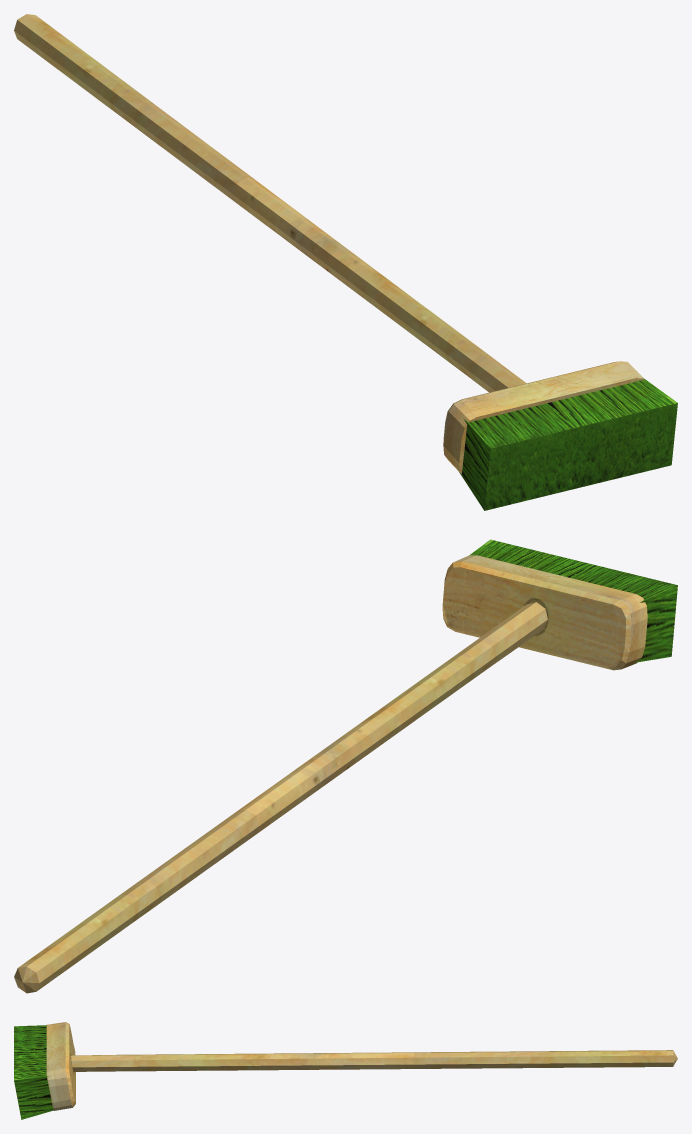
File: Push Broom.obj
3 renders of one model, top to bottom at view 1: azimuth 30°, elevation 25°; view 2: azimuth 150°, elevation 25°; view 3: azimuth 270°, elevation 25°, orthographic. The views are drawn at different scales.
Parts seen in each view (by area): view 1: Mesh_0705.rip_Tex_014_Mesh_0705.rip_Tex_014_Tex_0145_0.dds.001_b, Mesh_0705.rip_Tex_014_Mesh_0705.rip_Tex_014_Tex_0145_0.dds_broom; view 2: Mesh_0705.rip_Tex_014_Mesh_0705.rip_Tex_014_Tex_0145_0.dds.001_b, Mesh_0705.rip_Tex_014_Mesh_0705.rip_Tex_014_Tex_0145_0.dds_broom; view 3: Mesh_0705.rip_Tex_014_Mesh_0705.rip_Tex_014_Tex_0145_0.dds_broom, Mesh_0705.rip_Tex_014_Mesh_0705.rip_Tex_014_Tex_0145_0.dds.001_b.
Part boxes in pixels (box(x1,y1,x2,y2)): Mesh_0705.rip_Tex_014_Mesh_0705.rip_Tex_014_Tex_0145_0.dds.001_b: box(443, 358, 677, 510); Mesh_0705.rip_Tex_014_Mesh_0705.rip_Tex_014_Tex_0145_0.dds_broom: box(14, 14, 522, 391); Mesh_0705.rip_Tex_014_Mesh_0705.rip_Tex_014_Tex_0145_0.dds.001_b: box(442, 539, 677, 670); Mesh_0705.rip_Tex_014_Mesh_0705.rip_Tex_014_Tex_0145_0.dds_broom: box(14, 609, 527, 993); Mesh_0705.rip_Tex_014_Mesh_0705.rip_Tex_014_Tex_0145_0.dds_broom: box(85, 1050, 677, 1071); Mesh_0705.rip_Tex_014_Mesh_0705.rip_Tex_014_Tex_0145_0.dds.001_b: box(14, 1022, 132, 1119).
Bounding box in the file's own units: 0.293 × 0.12 × 1.52.
